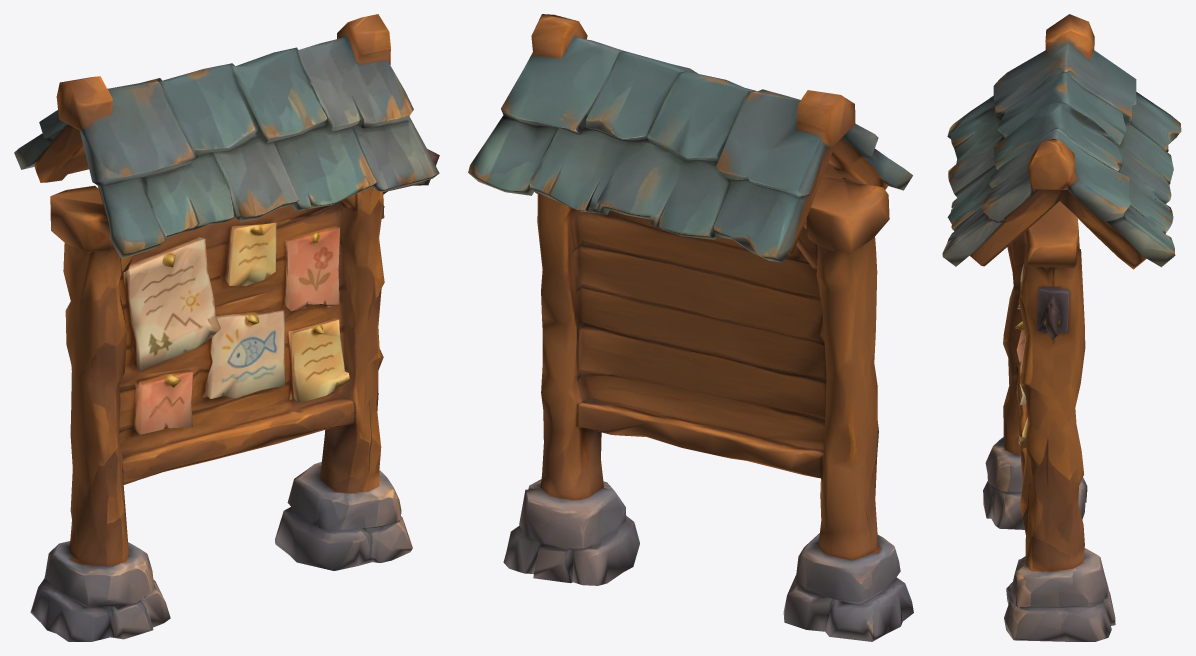
Rendered from notice-board.glb.
The picture shows the model from 3 angles, left to right: view 1: azimuth 30°, elevation 25°; view 2: azimuth 150°, elevation 25°; view 3: azimuth 270°, elevation 25°; orthographic projection. The views are drawn at different scales.
Visible parts, largest first — view 1: tripo_node_f8edaab5-d71e-4592-bc05-1e885e701075; view 2: tripo_node_f8edaab5-d71e-4592-bc05-1e885e701075; view 3: tripo_node_f8edaab5-d71e-4592-bc05-1e885e701075.
Part boxes in pixels (left/top/right/bottom): tripo_node_f8edaab5-d71e-4592-bc05-1e885e701075: left=14, top=14, right=439, bottom=641; tripo_node_f8edaab5-d71e-4592-bc05-1e885e701075: left=468, top=14, right=913, bottom=641; tripo_node_f8edaab5-d71e-4592-bc05-1e885e701075: left=942, top=14, right=1181, bottom=641.
Size of the model in its own units: 1.75 by 2.2 by 0.9766.
1 material, 1 textured.
